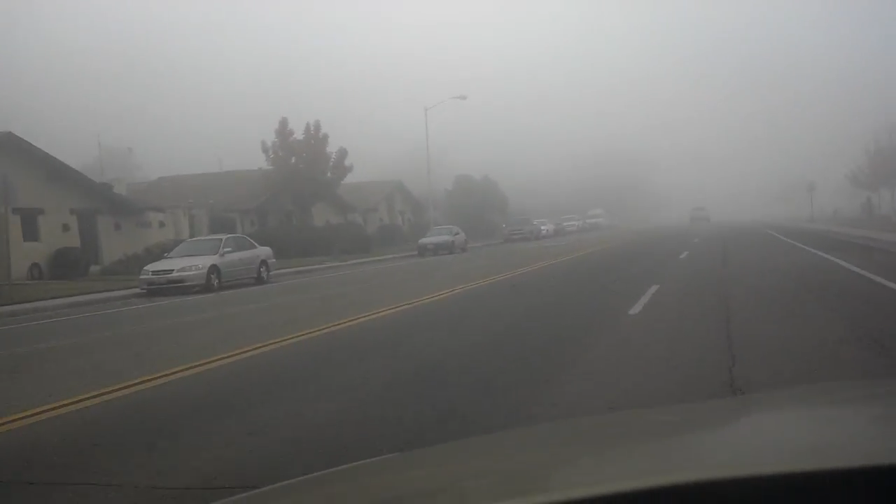car: (138, 233, 277, 294), (417, 223, 468, 254), (501, 214, 542, 241), (557, 214, 585, 233), (689, 203, 712, 223), (532, 218, 557, 236), (585, 209, 607, 229)
